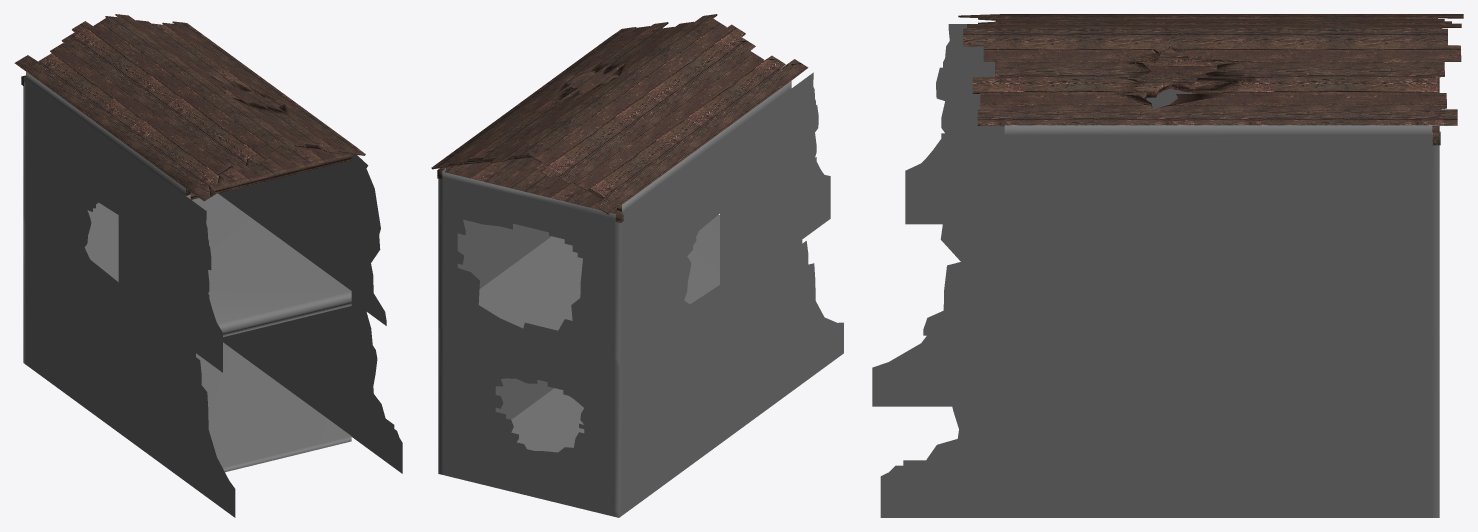
File: Ruin8_lod02.fbx
3 renders of one model, left to right at view 1: azimuth 30°, elevation 25°; view 2: azimuth 150°, elevation 25°; view 3: azimuth 270°, elevation 25°, orthographic. The views are drawn at different scales.
Parts seen in each view (by area): view 1: Default_Layer; view 2: Default_Layer; view 3: Default_Layer.
Part boxes in pixels (left/top/right/bottom): Default_Layer: left=14, top=14, right=402, bottom=517; Default_Layer: left=431, top=14, right=843, bottom=517; Default_Layer: left=872, top=14, right=1463, bottom=517.
Bounding box in the file's own units: 608 × 1090 × 1347.
